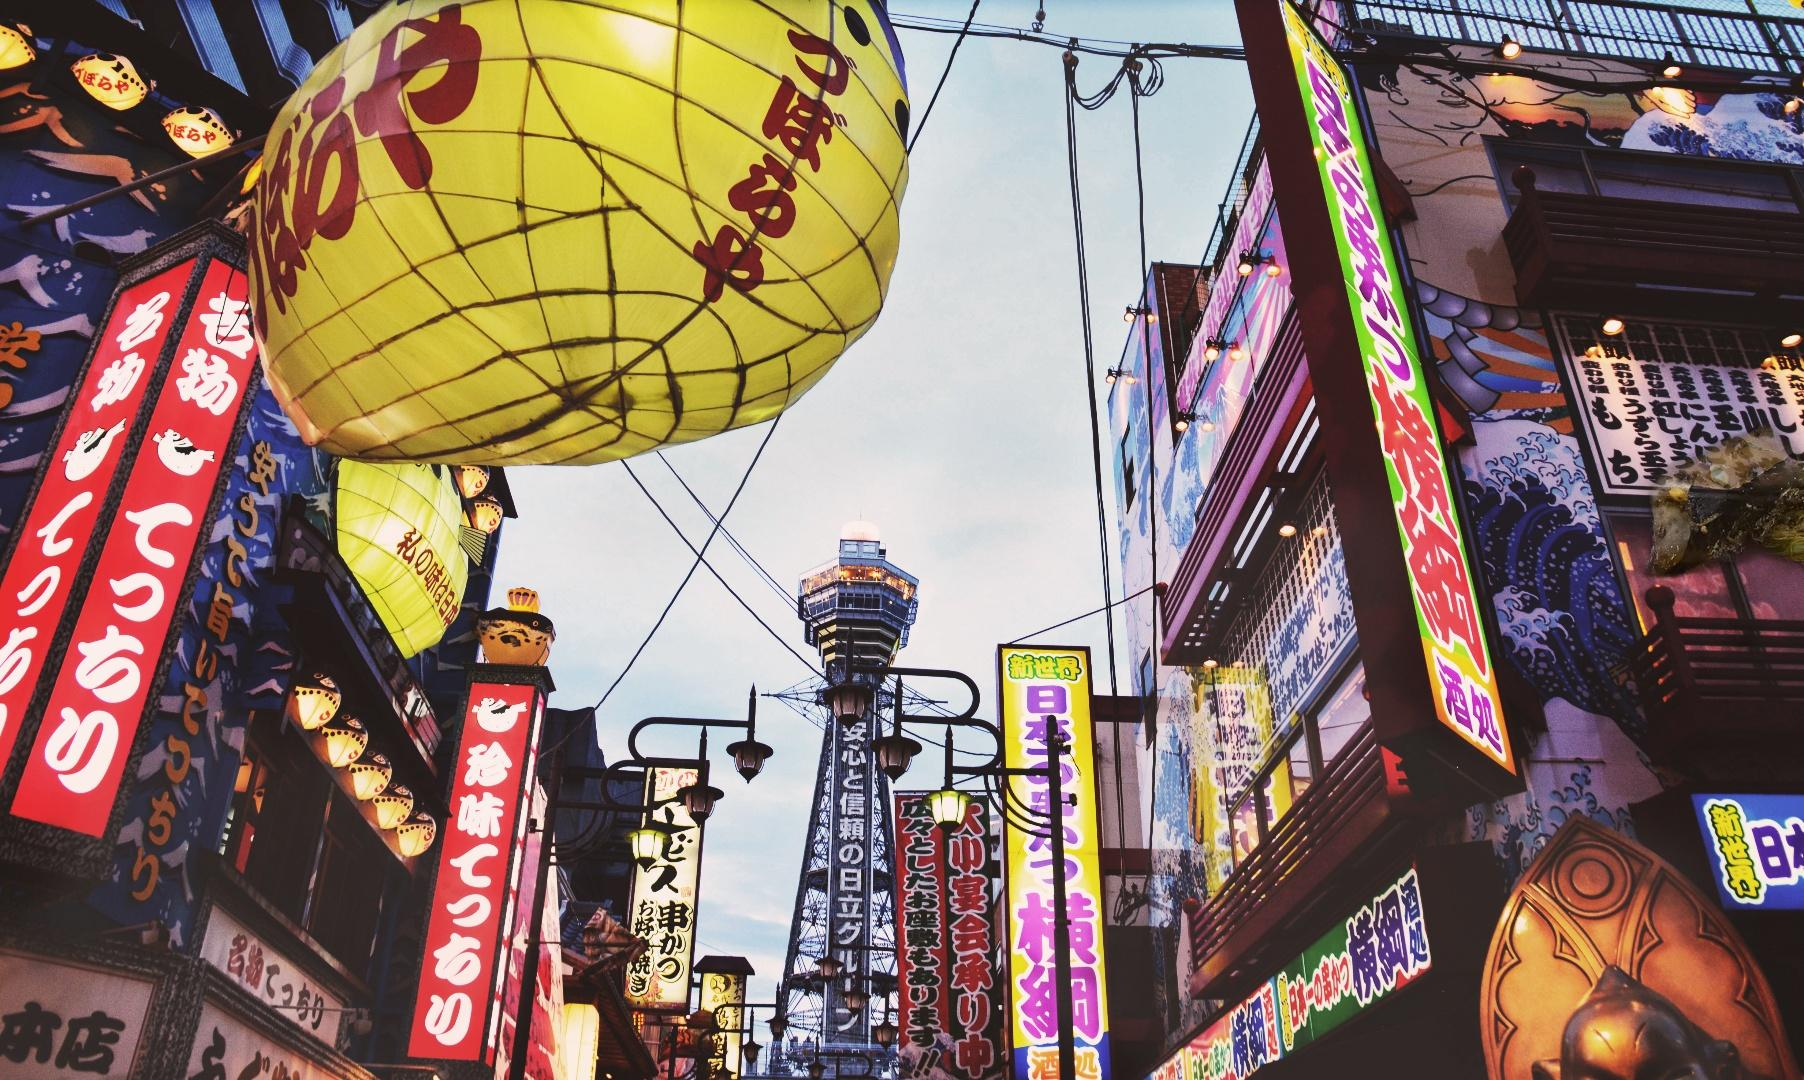trashbox-cardboard: (1290, 341, 1804, 917)
